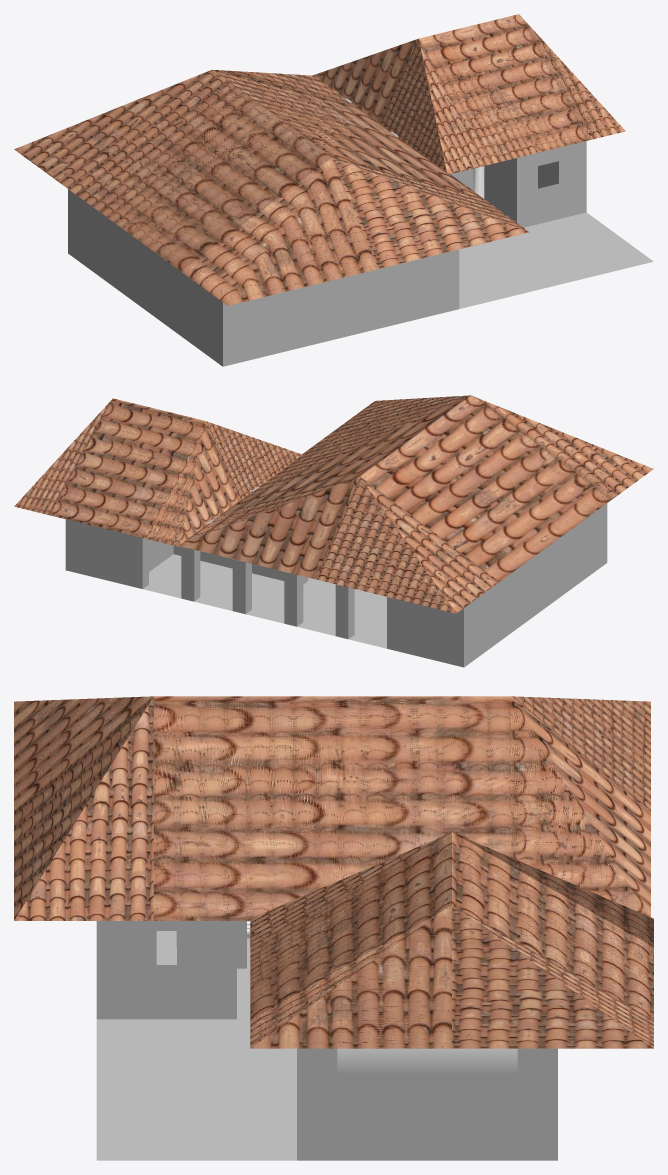
The model's file is trapichePlanoArcoTextura.obj.
3 views of the same model, one above another, from view 1: azimuth 30°, elevation 25°; view 2: azimuth 150°, elevation 25°; view 3: azimuth 270°, elevation 25° (orthographic). The views are drawn at different scales.
Parts seen in each view (by area): view 1: Plane.001_Plane.003, Plane, Plane.002_Plane.004; view 2: Plane.001_Plane.003, Plane, Plane.002_Plane.004; view 3: Plane.001_Plane.003, Plane, Plane.002_Plane.004.
Boxes of the visible parts, x1=… form: Plane.001_Plane.003: x1=14, y1=69, x2=529, y2=305; Plane: x1=68, y1=97, x2=653, y2=366; Plane.002_Plane.004: x1=312, y1=14, x2=625, y2=173; Plane.001_Plane.003: x1=180, y1=395, x2=653, y2=613; Plane: x1=65, y1=486, x2=607, y2=667; Plane.002_Plane.004: x1=14, y1=398, x2=302, y2=546; Plane.001_Plane.003: x1=14, y1=696, x2=650, y2=920; Plane: x1=96, y1=921, x2=557, y2=1160; Plane.002_Plane.004: x1=250, y1=832, x2=653, y2=1048.
Size of the model in its own units: 38.02 by 13.48 by 29.63.
